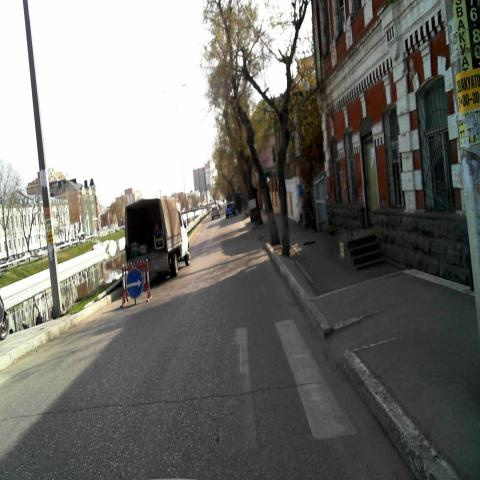4_1_2_1: (125, 263, 143, 298)
